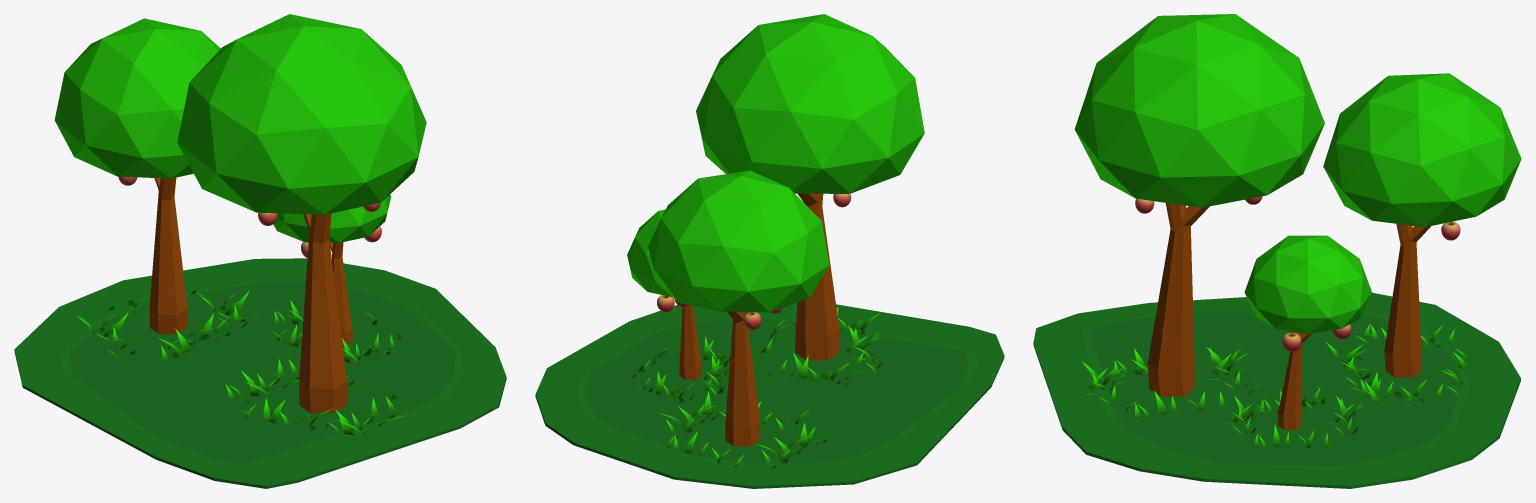
The model's file is TreeFruitedGroup.glb.
The picture shows the model from 3 angles, left to right: view 1: azimuth 30°, elevation 25°; view 2: azimuth 150°, elevation 25°; view 3: azimuth 270°, elevation 25°; orthographic projection. The views are drawn at different scales.
Parts seen in each view (by area): view 1: TreeFruits2.001; view 2: TreeFruits2.001; view 3: TreeFruits2.001.
Boxes of the visible parts, <box> form: TreeFruits2.001: <box>14,14,506,488</box>; TreeFruits2.001: <box>535,14,1004,488</box>; TreeFruits2.001: <box>1033,14,1521,488</box>.
Bounding box in the file's own units: 2.88 × 2.52 × 3.03.
3 materials, 3 textured.
